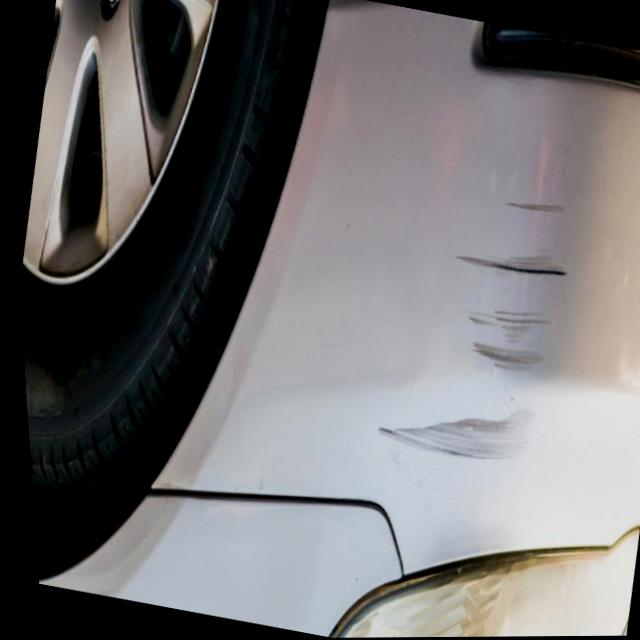Scratch: (368, 402, 551, 469), (457, 299, 562, 378), (443, 243, 574, 282), (497, 199, 573, 215)
